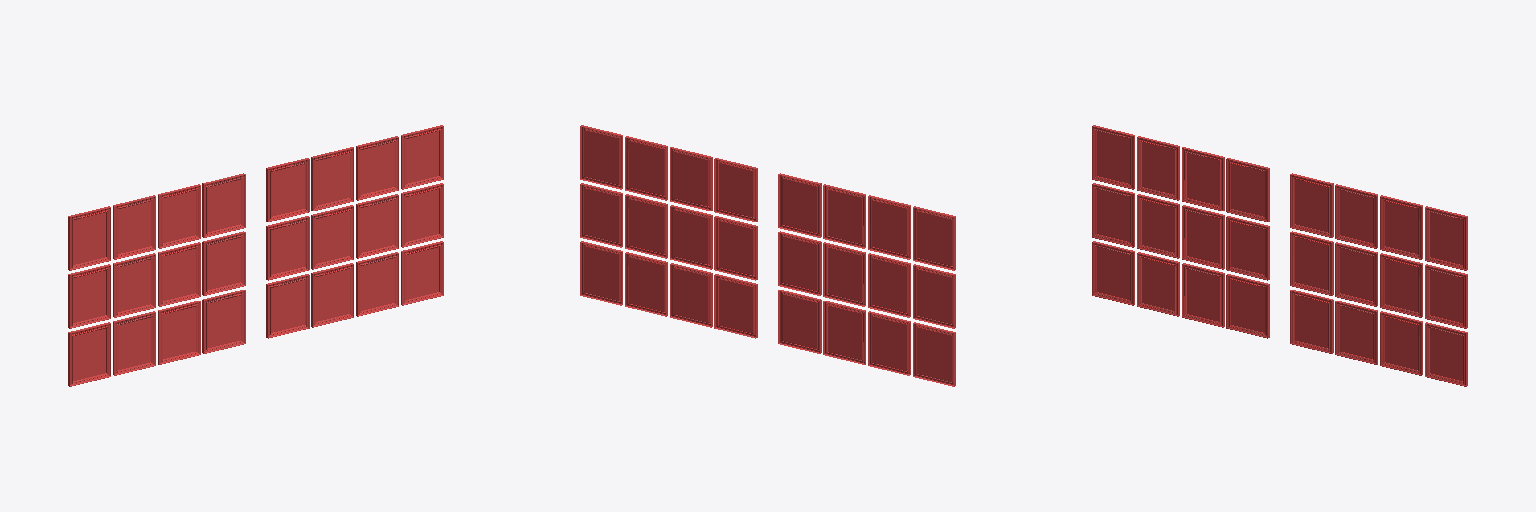
The model's file is Paintings_013-(OBJ).obj.
3 views of the same model, side by side, from view 1: azimuth 30°, elevation 25°; view 2: azimuth 150°, elevation 25°; view 3: azimuth 330°, elevation 25° (orthographic).
Visible parts, largest first — view 1: 055_Fr_013, 055_Fr_006, 055_Fr_003, 055_Fr_024, 055_Fr_010, 055_Fr_018, 055_Fr_004, 055_Fr_012, 055_Fr_019, 055_Fr_021, 055_Fr_015, 055_Fr_016 (+12 smaller); view 2: 055_Fr_013, 055_Fr_006, 055_Fr_003, 055_Fr_024, 055_Fr_010, 055_Fr_018, 055_Fr_004, 055_Fr_012, 055_Fr_019, 055_Fr_021, 055_Fr_015, 055_Fr_016 (+12 smaller); view 3: 055_Fr_013, 055_Fr_006, 055_Fr_010, 055_Fr_018, 055_Fr_003, 055_Fr_024, 055_Fr_011, 055_Fr_001, 055_Fr_020, 055_Fr_022, 055_Fr_015, 055_Fr_016 (+12 smaller).
Boxes of the visible parts, box(x1,y1,x2,y2) form: 055_Fr_013: box(266, 216, 309, 280); 055_Fr_006: box(202, 231, 245, 295); 055_Fr_003: box(202, 173, 245, 237); 055_Fr_024: box(266, 274, 309, 338); 055_Fr_010: box(202, 290, 245, 353); 055_Fr_018: box(266, 158, 309, 221); 055_Fr_004: box(158, 184, 200, 248); 055_Fr_012: box(68, 322, 110, 386); 055_Fr_019: box(401, 125, 443, 189); 055_Fr_021: box(311, 263, 353, 327); 055_Fr_015: box(311, 205, 353, 269); 055_Fr_016: box(356, 194, 398, 258); 055_Fr_013: box(714, 216, 757, 280); 055_Fr_006: box(778, 231, 821, 295); 055_Fr_003: box(778, 173, 821, 237); 055_Fr_024: box(714, 274, 757, 338); 055_Fr_010: box(778, 290, 821, 353); 055_Fr_018: box(714, 158, 757, 221); 055_Fr_004: box(823, 184, 865, 248); 055_Fr_012: box(913, 322, 955, 386); 055_Fr_019: box(580, 125, 622, 189); 055_Fr_021: box(670, 263, 712, 327); 055_Fr_015: box(670, 205, 712, 269); 055_Fr_016: box(625, 194, 667, 258); 055_Fr_013: box(1290, 231, 1333, 295); 055_Fr_006: box(1226, 216, 1269, 280); 055_Fr_010: box(1226, 274, 1269, 338); 055_Fr_018: box(1290, 173, 1333, 237); 055_Fr_003: box(1226, 158, 1269, 221); 055_Fr_024: box(1290, 290, 1333, 353); 055_Fr_011: box(1182, 263, 1224, 327); 055_Fr_001: box(1092, 125, 1134, 189); 055_Fr_020: box(1335, 184, 1377, 248); 055_Fr_022: box(1425, 322, 1467, 386); 055_Fr_015: box(1335, 242, 1377, 306); 055_Fr_016: box(1380, 253, 1422, 317).
Size of the model in its own units: 4268 by 1847 by 32.81.